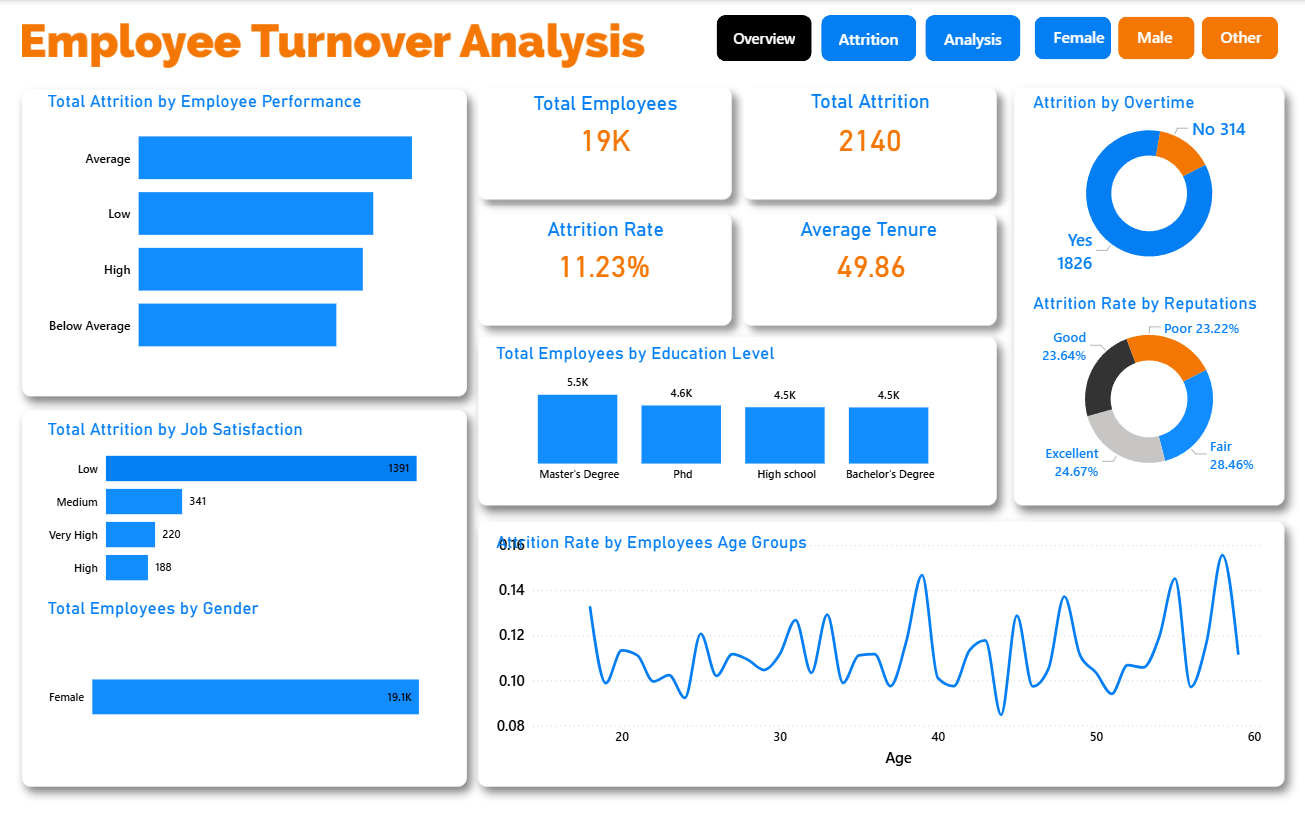

What the dashboard file says about the page in this screenshot:
{"tool":"powerbi","page":{"name":"Overview","canvas":[1440,910],"ordinal":0},"visuals":[{"type":"card","fields":{"Values":["public employee_attrition_dataset.total_employee"]},"box":[568.5,123.9,200,56.2],"z":0},{"type":"card","fields":{"Values":["public employee_attrition_dataset.total_attrition"]},"box":[861,123.9,198.3,56.2],"z":1000},{"type":"card","fields":{"Values":["public employee_attrition_dataset.attrition_rate"]},"box":[566.8,264.4,200,52.9],"z":2000},{"type":"card","fields":{"Values":["public employee_attrition_dataset.avg_tenure"]},"box":[862.6,264.4,198.3,52.9],"z":3000},{"type":"textbox","box":[550.3,95.8,238,41.3],"z":4000},{"type":"textbox","box":[851.1,94.2,219.8,41.3],"z":5000},{"type":"textbox","box":[556.9,234.7,224.8,41.3],"z":6000},{"type":"textbox","box":[839.5,234.7,239.6,41.3],"z":7000},{"type":"lineChart","fields":{"Category":["public employee_attrition_dataset.Age"],"Y":["public employee_attrition_dataset.attrition_rate"]},"box":[542.9,583.3,854.8,266],"z":8000},{"type":"donutChart","fields":{"Y":["public employee_attrition_dataset.total_attrition"],"Category":["public employee_attrition_dataset.Overtime"]},"box":[1135.1,111.3,265.2,204],"z":9000},{"type":"clusteredBarChart","fields":{"Y":["public employee_attrition_dataset.total_attrition"],"Category":["public employee_attrition_dataset.Job Satisfaction Label"]},"box":[50.1,474.8,445.1,185.5],"z":10000},{"type":"clusteredBarChart","fields":{"Category":["public employee_attrition_dataset.Performance Rating Label"],"Y":["public employee_attrition_dataset.total_attrition"]},"box":[50.1,113.1,445.1,300.5],"z":11000},{"type":"clusteredBarChart","fields":{"Category":["public employee_attrition_dataset.Gender"],"Y":["public employee_attrition_dataset.total_employee"]},"box":[50.1,664,445.1,200.3],"z":12000},{"type":"donutChart","fields":{"Y":["public employee_attrition_dataset.total_attrition"],"Category":["public employee_attrition_dataset.Reputation Label"]},"box":[1129.5,337.5,278.2,204],"z":13000},{"type":"textbox","box":[50.1,94.6,445.1,55.6],"z":14000},{"type":"textbox","box":[50.1,456.2,445.1,55.6],"z":15000},{"type":"textbox","box":[50.1,652.8,445.1,55.6],"z":16000},{"type":"textbox","box":[543.4,580.5,445.1,55.6],"z":17000},{"type":"textbox","box":[1135.1,96.4,213.3,55.6],"z":18000},{"type":"textbox","box":[1134.5,315.1,284.5,56.2],"z":19000},{"type":"textbox","box":[543.7,371.8,444.5,56.2],"z":20000},{"type":"clusteredColumnChart","fields":{"Y":["public employee_attrition_dataset.total_employee"],"Category":["public employee_attrition_dataset.Education Level"]},"box":[543.7,399.9,535.4,140.5],"z":21000},{"type":"advancedSlicerVisual","fields":{"Values":["public employee_attrition_dataset.Gender"]},"box":[1136.9,13,278.2,57.5],"z":22000},{"type":"pageNavigator","box":[791.9,16.7,337.5,51.9],"z":23000}]}

Visuals, with their boxes in screenshot pixels (x1, y1, x2, y2), scaled from the page's 1440x910 canvas onto the 1305x819 screenshot:
card - public employee_attrition_dataset.total_employee: 515:112:696:162
card - public employee_attrition_dataset.total_attrition: 780:112:960:162
card - public employee_attrition_dataset.attrition_rate: 514:238:695:286
card - public employee_attrition_dataset.avg_tenure: 782:238:961:286
textbox: 499:86:714:123
textbox: 771:85:971:122
textbox: 505:211:708:248
textbox: 761:211:978:248
lineChart - public employee_attrition_dataset.Age x public employee_attrition_dataset.attrition_rate: 492:525:1267:764
donutChart - public employee_attrition_dataset.total_attrition x public employee_attrition_dataset.Overtime: 1029:100:1269:284
clusteredBarChart - public employee_attrition_dataset.total_attrition x public employee_attrition_dataset.Job Satisfaction Label: 45:427:449:594
clusteredBarChart - public employee_attrition_dataset.Performance Rating Label x public employee_attrition_dataset.total_attrition: 45:102:449:372
clusteredBarChart - public employee_attrition_dataset.Gender x public employee_attrition_dataset.total_employee: 45:598:449:778
donutChart - public employee_attrition_dataset.total_attrition x public employee_attrition_dataset.Reputation Label: 1024:304:1276:487
textbox: 45:85:449:135
textbox: 45:411:449:461
textbox: 45:588:449:638
textbox: 492:522:896:572
textbox: 1029:87:1222:137
textbox: 1028:284:1286:334
textbox: 493:335:896:385
clusteredColumnChart - public employee_attrition_dataset.total_employee x public employee_attrition_dataset.Education Level: 493:360:978:486
advancedSlicerVisual - public employee_attrition_dataset.Gender: 1030:12:1282:63
pageNavigator: 718:15:1024:62
